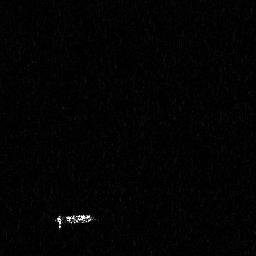ship: (52, 212, 100, 232)
